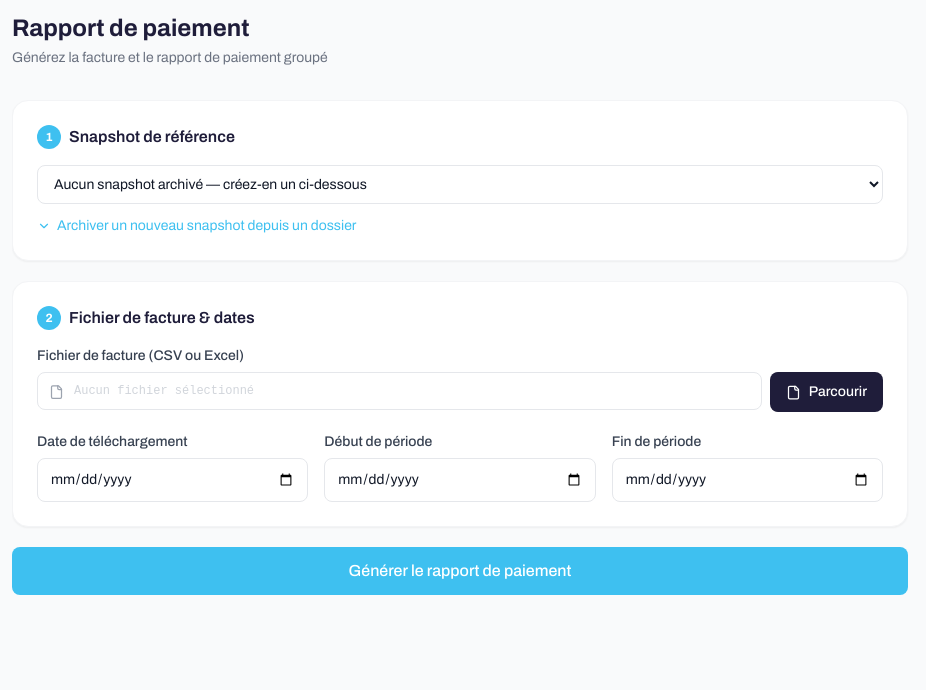
PaymentPage — validation › shows error when Run is clicked with no snapshot
The width and height of the screenshot is (926, 690).
What coordinates should you click on to do the following:
click the button "Générer le rapport de paiement"
I would click on:
 (460, 571)
Its box is [12,547,908,595].
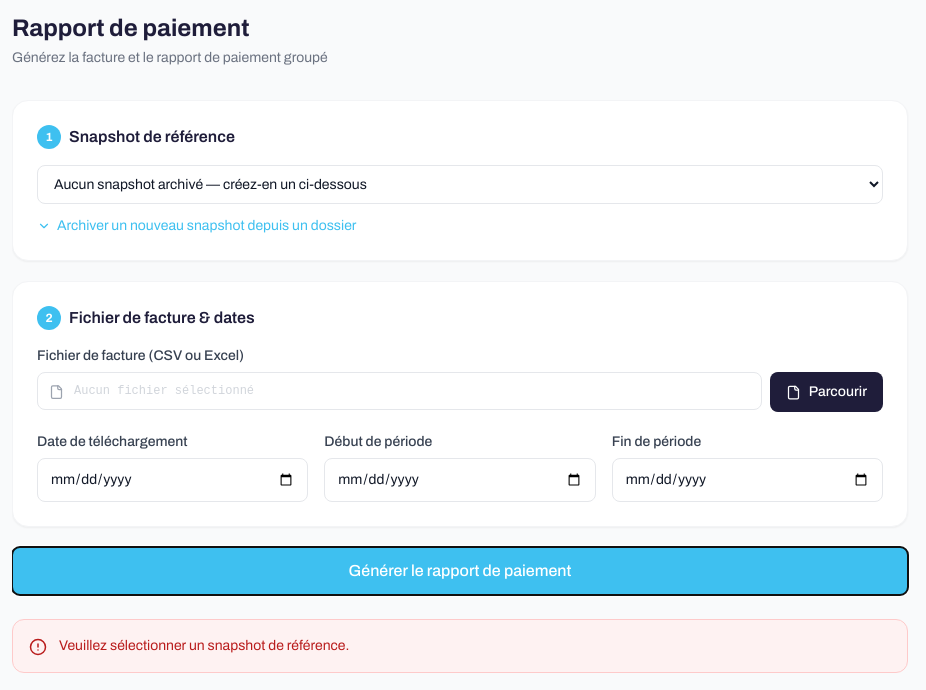
Expected: the text "Veuillez sélectionner un snapshot de référence." is shown, [59,636,349,656]
